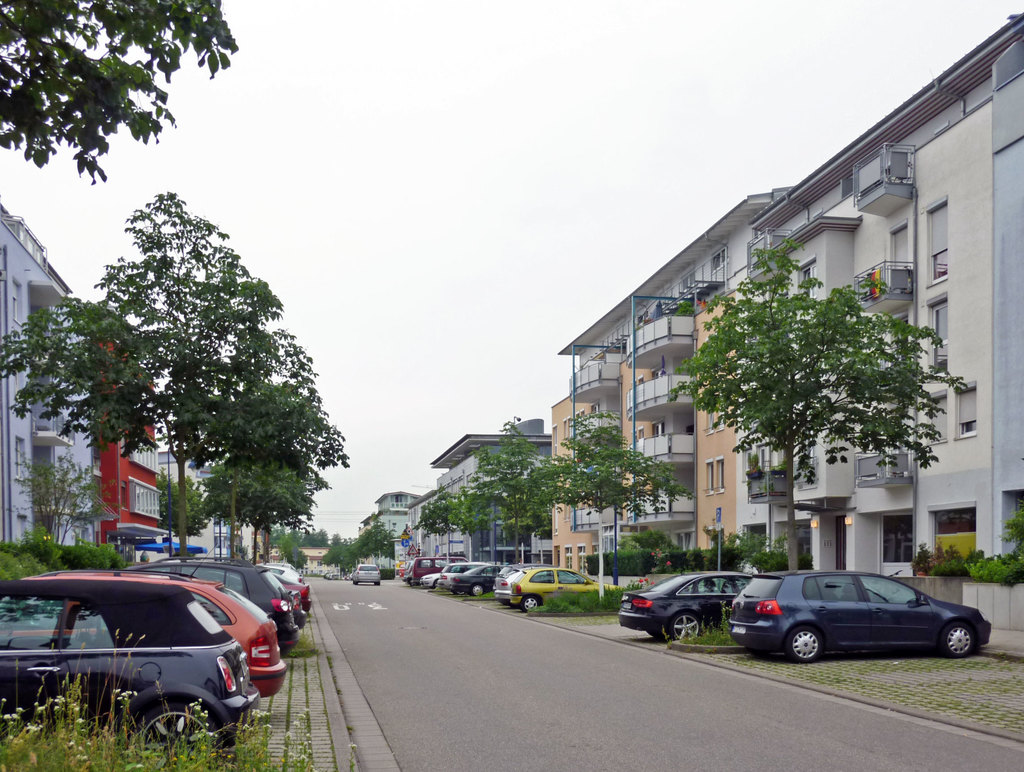Car: (0, 558, 312, 765), (726, 566, 989, 667), (401, 551, 624, 609), (624, 571, 764, 641), (349, 561, 381, 587)
